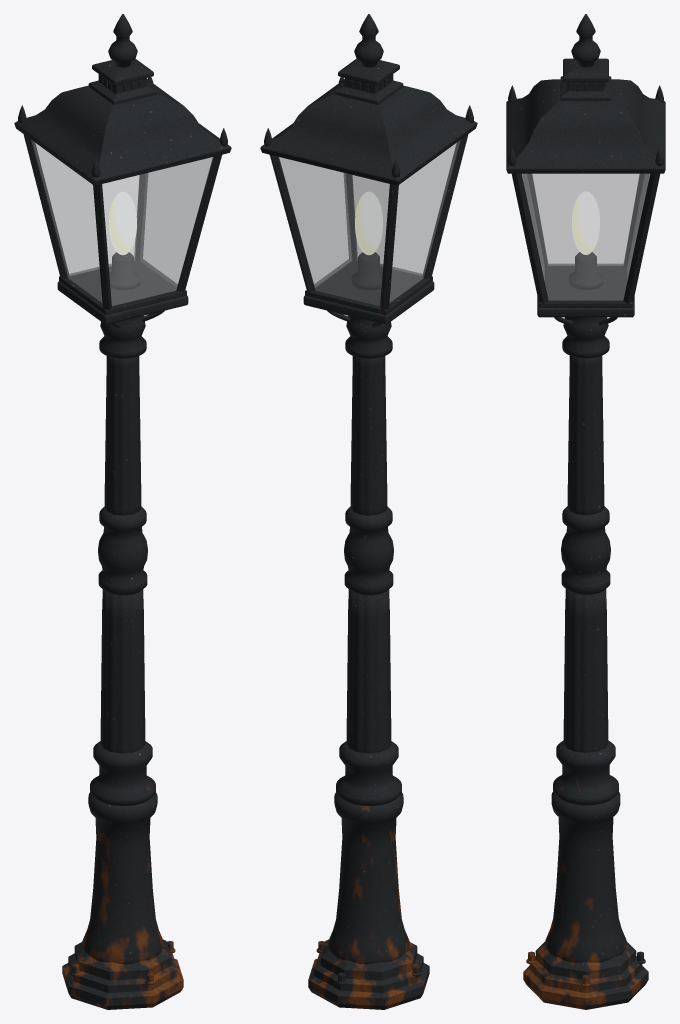
File: farol.gltf
3 views of the same model, side by side, from view 1: azimuth 30°, elevation 25°; view 2: azimuth 150°, elevation 25°; view 3: azimuth 270°, elevation 25° (orthographic).
Parts seen in each view (by area): view 1: techo, cristal, pedestal, mastil inferior, cristal.001, mastil superior, cristal.002, base, cristal.003, moldura central, collarin bajo, borde inferior (+10 smaller); view 2: techo, cristal.002, pedestal, mastil inferior, cristal.001, mastil superior, cristal, base, cristal.003, moldura central, collarin bajo, borde inferior (+10 smaller); view 3: cristal.001, techo, pedestal, mastil inferior, cristal.003, mastil superior, base, moldura central, collarin bajo, borde inferior, remate del techo, capitel (+10 smaller).
Part boxes in pixels (bbox=[...]): techo: bbox=[14, 79, 231, 185]; cristal: bbox=[102, 157, 213, 305]; pedestal: bbox=[82, 792, 163, 964]; mastil inferior: bbox=[100, 589, 145, 753]; cristal.001: bbox=[140, 157, 212, 287]; mastil superior: bbox=[104, 356, 141, 515]; cristal.002: bbox=[36, 144, 139, 275]; base: bbox=[62, 939, 183, 1009]; cristal.003: bbox=[31, 140, 101, 302]; moldura central: bbox=[98, 506, 147, 595]; collarin bajo: bbox=[90, 741, 155, 805]; borde inferior: bbox=[59, 259, 186, 315]; techo: bbox=[260, 79, 477, 185]; cristal.002: bbox=[278, 157, 389, 305]; pedestal: bbox=[328, 792, 409, 964]; mastil inferior: bbox=[346, 589, 391, 753]; cristal.001: bbox=[279, 157, 351, 287]; mastil superior: bbox=[350, 356, 387, 515]; cristal: bbox=[352, 144, 455, 275]; base: bbox=[308, 939, 429, 1009]; cristal.003: bbox=[390, 140, 460, 302]; moldura central: bbox=[344, 506, 393, 595]; collarin bajo: bbox=[336, 741, 401, 805]; borde inferior: bbox=[305, 259, 432, 315]; cristal.001: bbox=[522, 174, 649, 300]; techo: bbox=[506, 79, 665, 173]; pedestal: bbox=[545, 791, 626, 962]; mastil inferior: bbox=[563, 589, 608, 752]; cristal.003: bbox=[532, 174, 639, 265]; mastil superior: bbox=[567, 355, 604, 515]; base: bbox=[523, 941, 648, 1009]; moldura central: bbox=[561, 506, 610, 595]; collarin bajo: bbox=[553, 740, 618, 805]; borde inferior: bbox=[539, 264, 632, 307]; remate del techo: bbox=[560, 58, 611, 100]; capitel: bbox=[562, 317, 609, 358].
Size of the model in its own units: 0.5085 by 3.41 by 0.5085.
3 materials, 1 textured.
